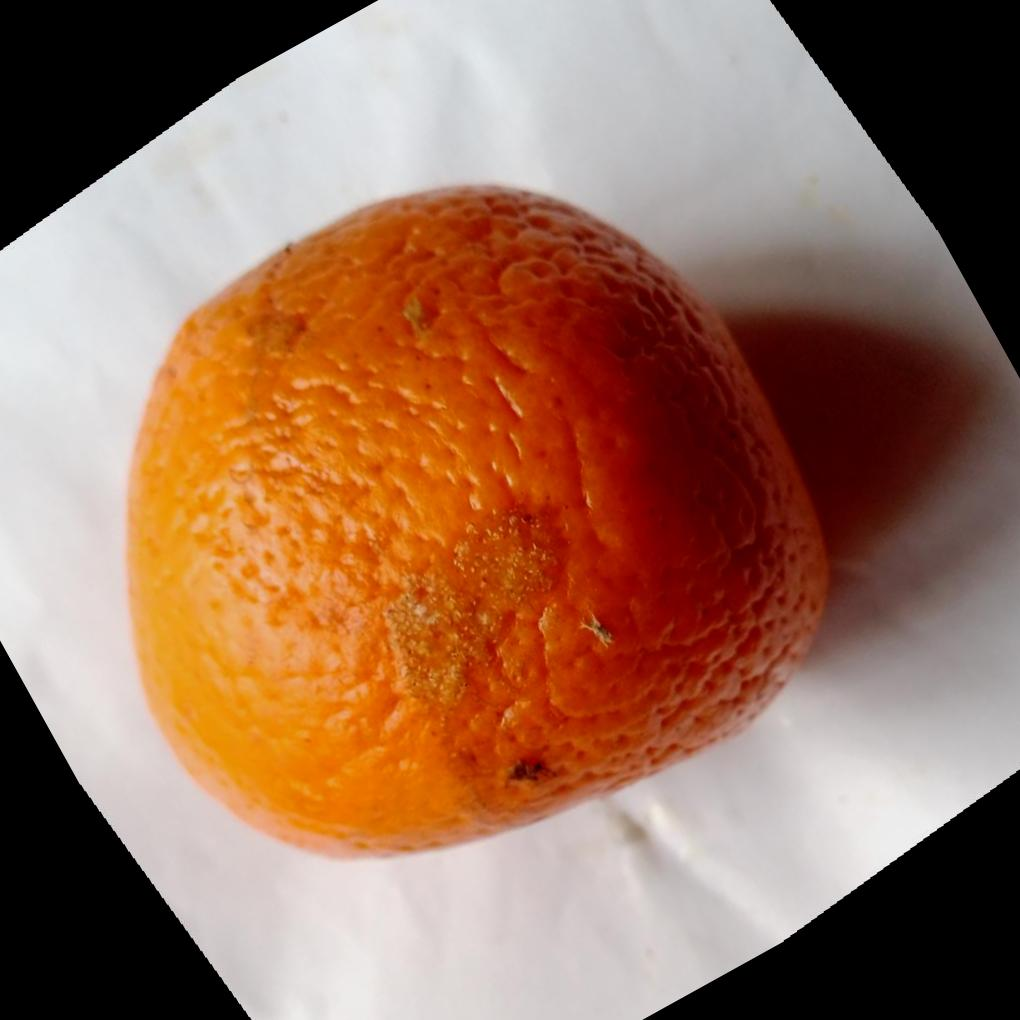FreshOrange: (119, 183, 831, 863)
